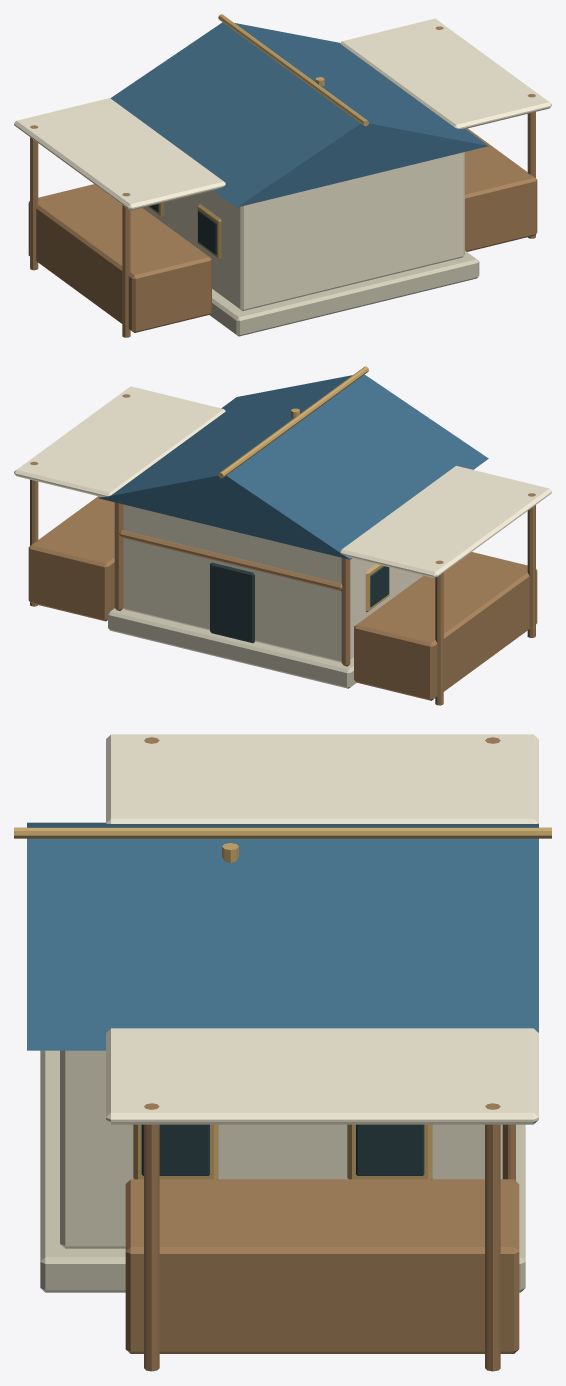
File: level_03.glb
The picture shows the model from 3 angles, top to bottom: view 1: azimuth 30°, elevation 25°; view 2: azimuth 150°, elevation 25°; view 3: azimuth 270°, elevation 25°; orthographic projection. The views are drawn at different scales.
Visible parts, largest first — view 1: market — level 03; view 2: market — level 03; view 3: market — level 03.
Boxes of the visible parts, <box> form: market — level 03: <box>14,14,551,337</box>; market — level 03: <box>14,366,551,705</box>; market — level 03: <box>14,734,551,1371</box>.
Size of the model in its own units: 6.9 by 3.01 by 4.1.
